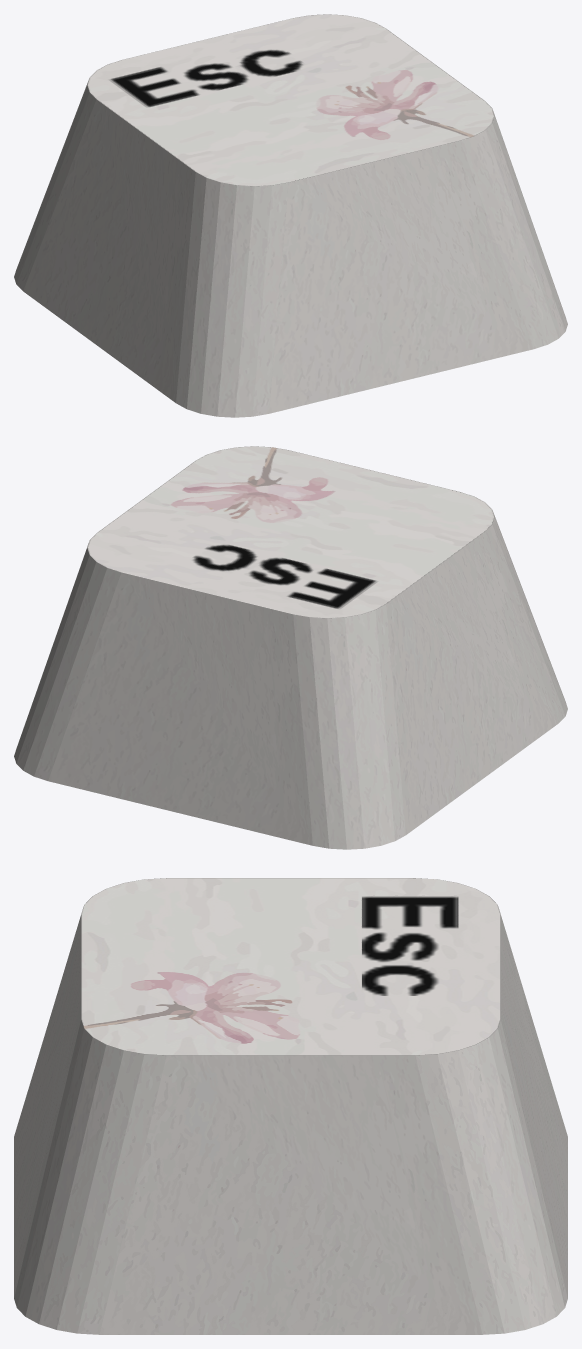
The model's file is EscKey.fbx.
The picture shows the model from 3 angles, top to bottom: view 1: azimuth 30°, elevation 25°; view 2: azimuth 150°, elevation 25°; view 3: azimuth 270°, elevation 25°; orthographic projection. The views are drawn at different scales.
Visible parts, largest first — view 1: EscKey; view 2: EscKey; view 3: EscKey.
Boxes of the visible parts, left/top/right/bottom form: EscKey: left=14, top=14, right=567, bottom=417; EscKey: left=14, top=446, right=567, bottom=849; EscKey: left=14, top=878, right=567, bottom=1334.
Bounding box in the file's own units: 200 × 100 × 200.
